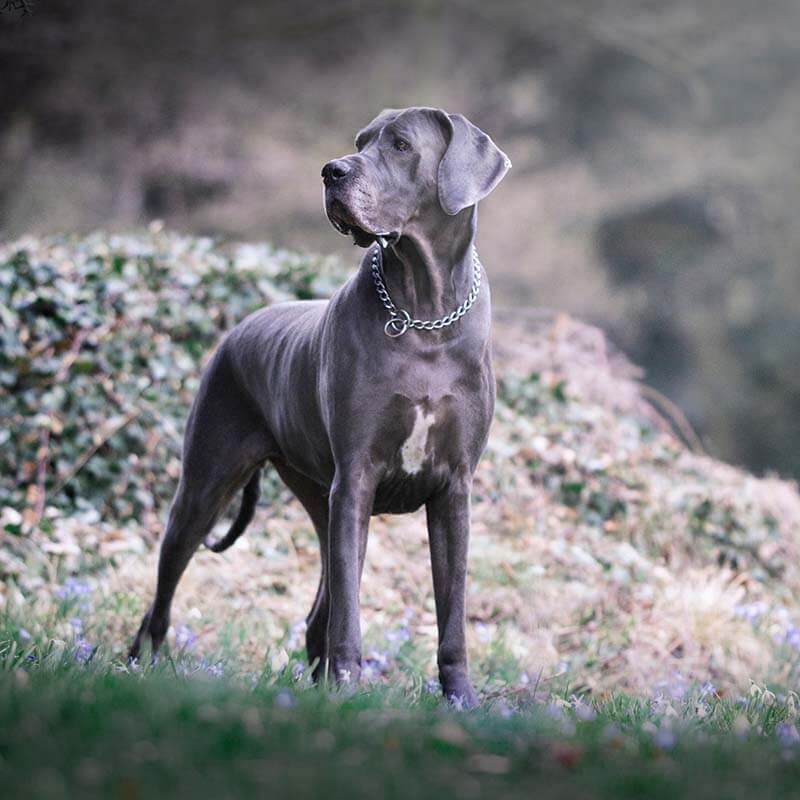dog: (123, 102, 513, 711)
